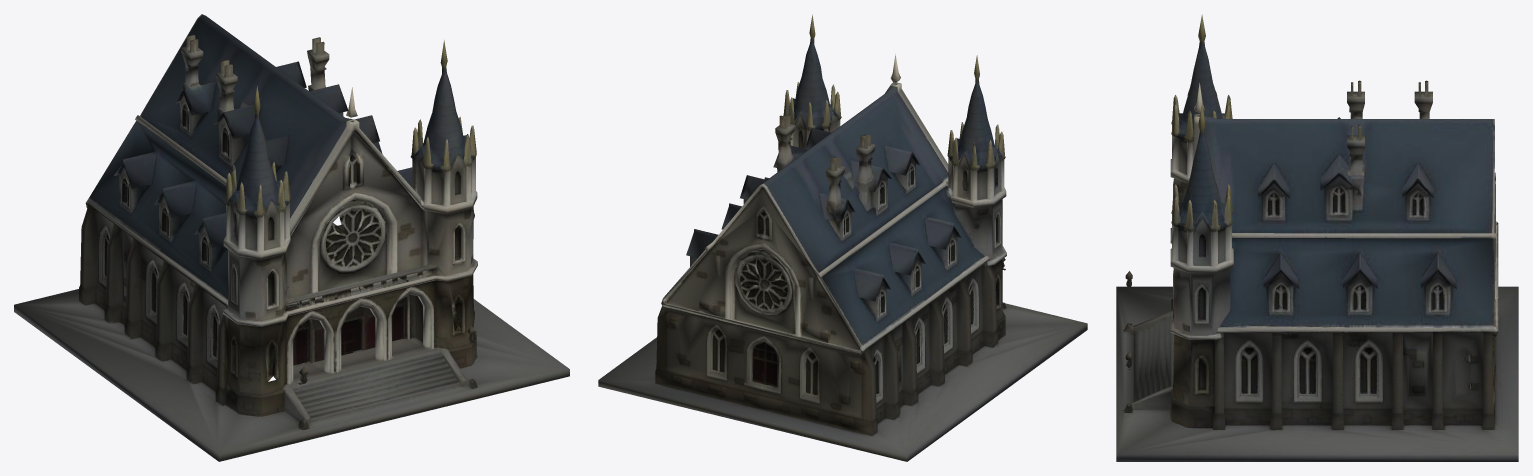
File: odeon.glb
3 views of the same model, side by side, from view 1: azimuth 30°, elevation 25°; view 2: azimuth 150°, elevation 25°; view 3: azimuth 270°, elevation 25° (orthographic). The views are drawn at different scales.
Visible parts, largest first — view 1: tripo_node_991dd037-5aa2-4723-a536-df089; view 2: tripo_node_991dd037-5aa2-4723-a536-df089; view 3: tripo_node_991dd037-5aa2-4723-a536-df089.
Part boxes in pixels (x1=…): tripo_node_991dd037-5aa2-4723-a536-df089: x1=14, y1=14, x2=569, y2=461; tripo_node_991dd037-5aa2-4723-a536-df089: x1=598, y1=14, x2=1087, y2=461; tripo_node_991dd037-5aa2-4723-a536-df089: x1=1116, y1=14, x2=1518, y2=461.
Size of the model in its own units: 36.15 by 32 by 36.58.
Materials: 1 (1 with a texture image).
